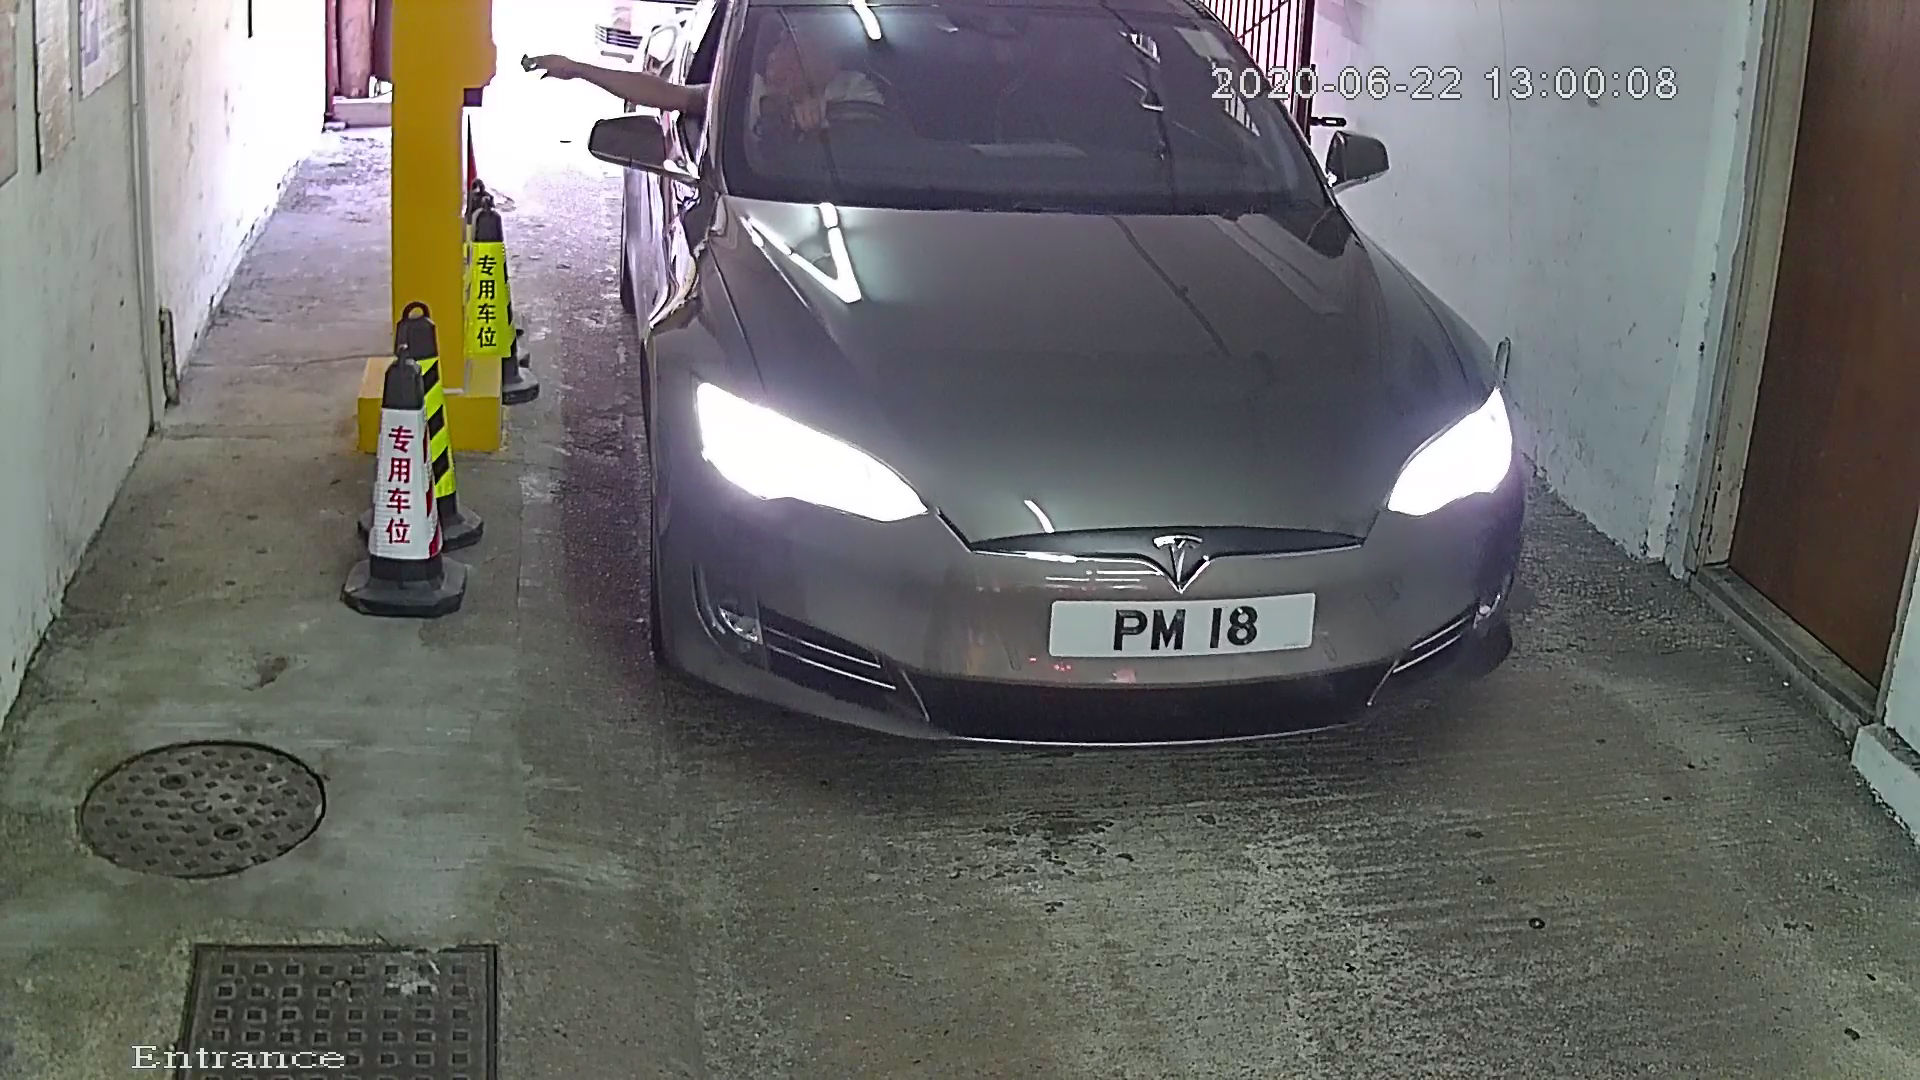privatecar: (531, 3, 1589, 785)
